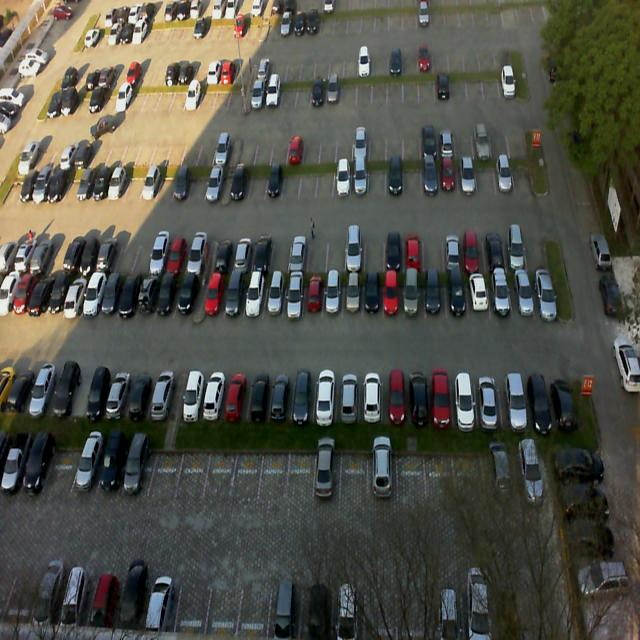space-empty: (43, 445, 79, 499), (148, 444, 182, 500), (231, 451, 264, 505), (175, 445, 209, 495), (204, 448, 238, 498), (259, 448, 291, 500), (64, 367, 93, 421), (288, 449, 314, 504), (130, 236, 156, 276), (113, 238, 140, 276), (525, 229, 549, 271), (188, 164, 211, 206), (425, 229, 445, 276), (155, 165, 177, 207), (511, 156, 534, 196), (268, 236, 290, 272), (307, 234, 327, 273), (324, 235, 344, 273), (364, 235, 383, 273), (478, 158, 496, 198), (299, 166, 317, 205), (283, 164, 300, 205), (250, 166, 268, 204), (368, 162, 386, 200), (403, 163, 421, 197), (316, 166, 332, 200)
space-occupied: (94, 445, 132, 502), (123, 442, 157, 502), (71, 446, 106, 501), (545, 370, 576, 426), (312, 451, 342, 507), (223, 370, 254, 424), (21, 446, 55, 494), (499, 373, 527, 431), (476, 372, 502, 429), (523, 371, 549, 428), (222, 272, 249, 326), (117, 271, 145, 323), (83, 371, 112, 421), (136, 267, 162, 321), (428, 375, 454, 429), (452, 374, 479, 426), (106, 371, 134, 421), (268, 373, 294, 425), (312, 372, 336, 428), (154, 274, 180, 324), (127, 370, 153, 420), (203, 370, 229, 420), (246, 372, 272, 422), (262, 270, 286, 324), (530, 270, 557, 318), (148, 374, 175, 422), (359, 371, 382, 426), (174, 272, 198, 324), (405, 374, 429, 426), (101, 270, 125, 320), (241, 275, 265, 325), (335, 373, 359, 423), (290, 372, 313, 424), (382, 371, 405, 423), (486, 273, 511, 320), (483, 227, 507, 275), (181, 373, 206, 419), (443, 226, 466, 273), (205, 273, 225, 327), (505, 227, 527, 273), (303, 276, 324, 324), (167, 238, 193, 276), (467, 275, 488, 322), (148, 237, 172, 278), (509, 276, 531, 320), (322, 277, 343, 323), (444, 277, 467, 319), (282, 276, 302, 324), (188, 239, 212, 278), (172, 165, 194, 207), (139, 165, 162, 205), (404, 226, 424, 272), (363, 276, 383, 322), (404, 274, 424, 320), (426, 276, 446, 322), (382, 231, 404, 272), (204, 166, 226, 206), (287, 234, 309, 274), (464, 228, 484, 272), (231, 164, 252, 205), (229, 238, 251, 277), (251, 235, 273, 273), (345, 231, 364, 275), (384, 276, 402, 322), (213, 239, 235, 275), (345, 275, 362, 321), (458, 162, 478, 198), (494, 160, 514, 194), (267, 166, 283, 207), (333, 165, 350, 201), (422, 163, 440, 197), (388, 162, 404, 200), (440, 162, 458, 195), (351, 164, 367, 198)
